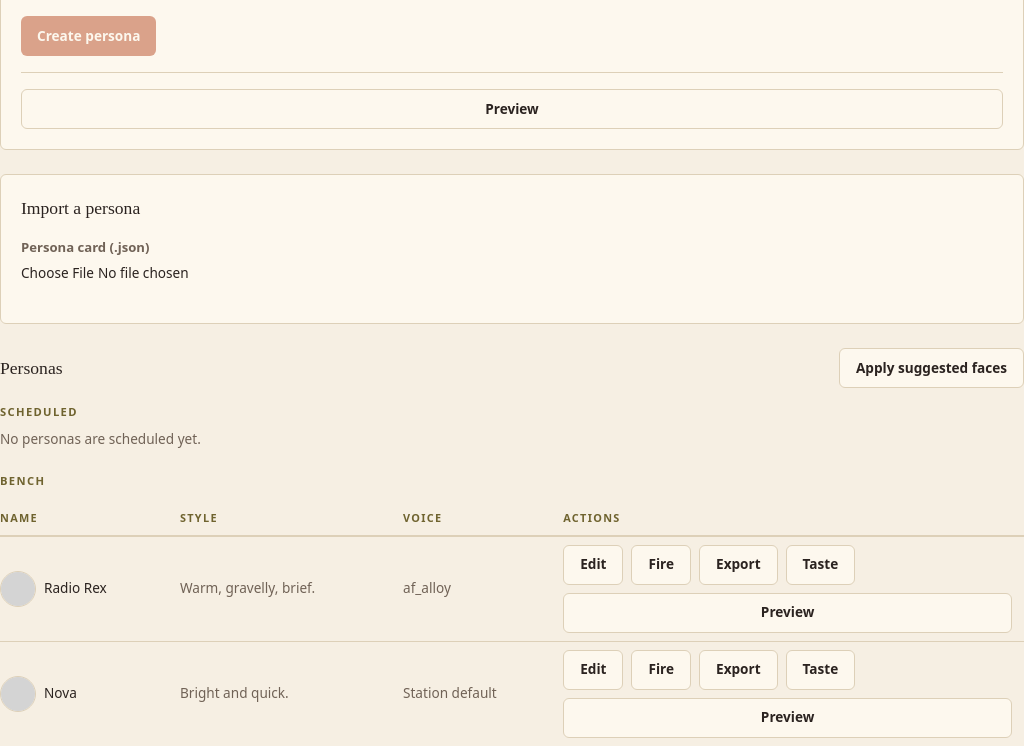
Test: Feature: Two-stage firing with a parachute › Scenario: the export-first gate (SPEC F94.2, STORY-247 AC2) › enables Delete once the Export action is clicked
(page scrolled)
Click the button with aria-label "Fire Radio Rex". click: [661, 564]
box: x1=632 y1=544 x2=691 y2=584
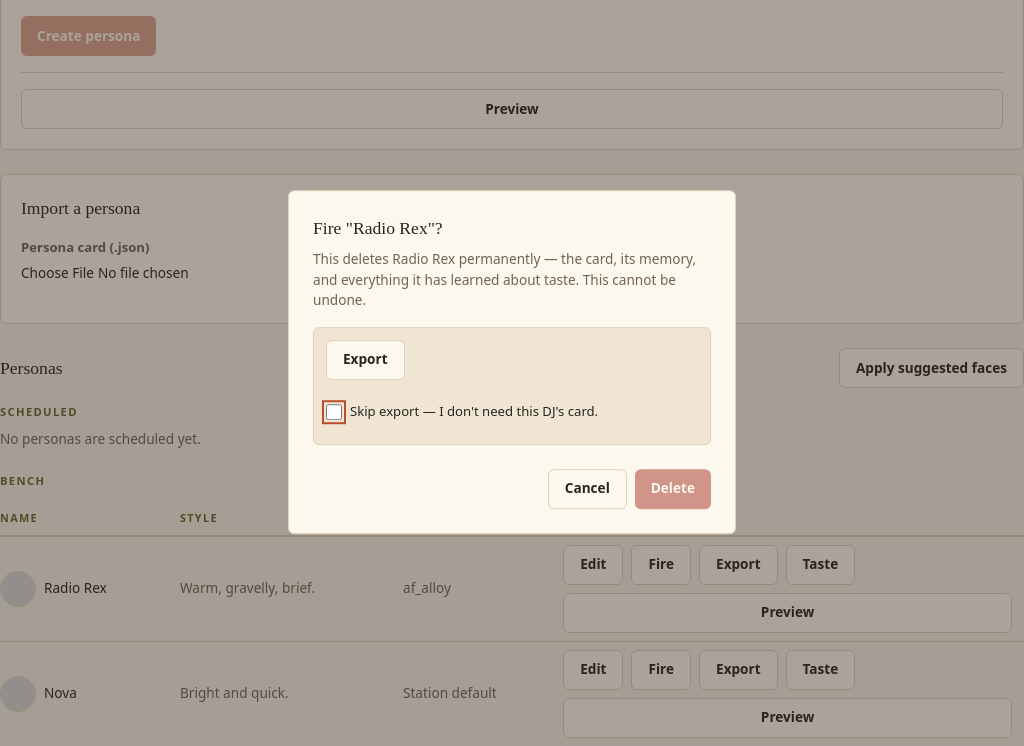
Click the link with aria-label "Export Radio Rex". click: [365, 360]
box: x1=326 y1=340 x2=405 y2=380
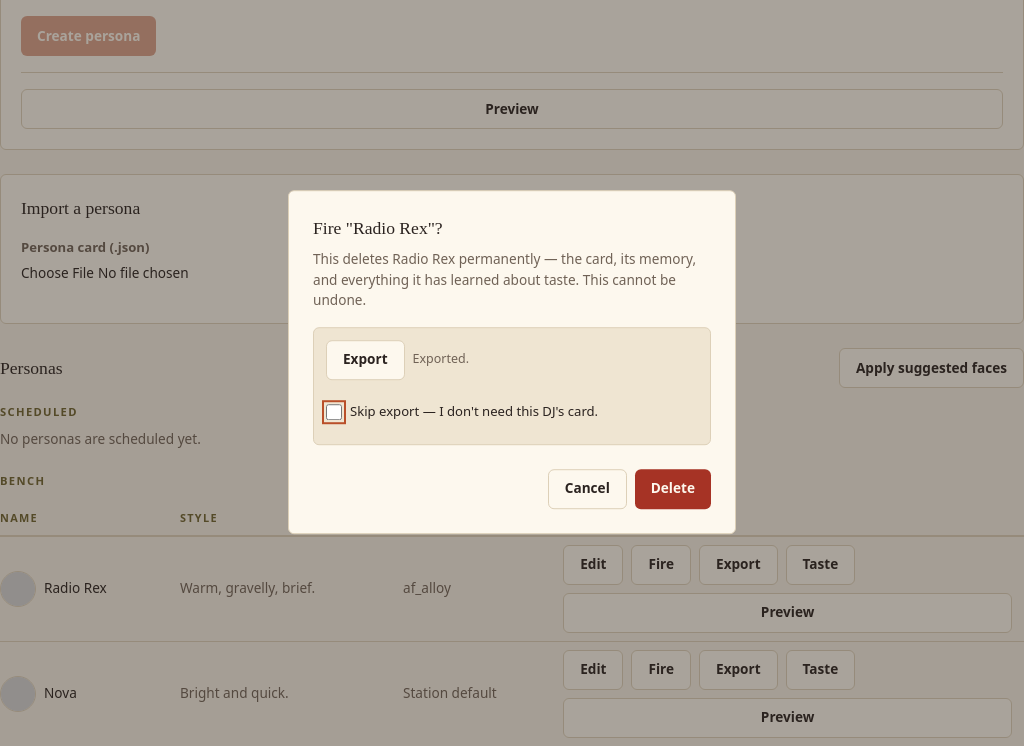
Now the button "Delete" is enabled, box x1=635 y1=469 x2=711 y2=509
